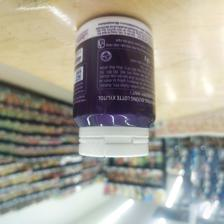Xylitol_BTS: (70, 14, 158, 157)
